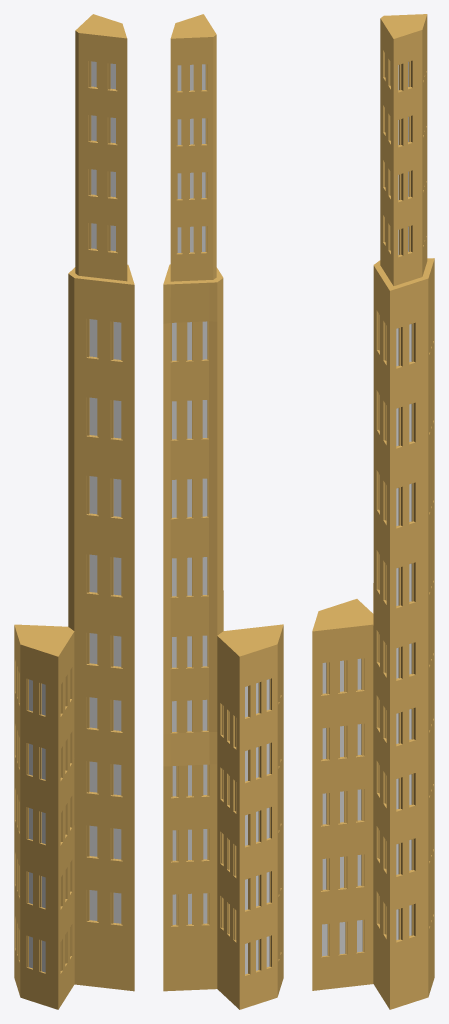
Rendered from the_bowtie.fbx.
3 renders of one model, left to right at view 1: azimuth 30°, elevation 25°; view 2: azimuth 150°, elevation 25°; view 3: azimuth 330°, elevation 25°, orthographic.
Visible parts, largest first — view 1: Circle; view 2: Circle; view 3: Circle.
Boxes of the visible parts, x1,y1,x2,y2 form: Circle: (14,14,134,1009); Circle: (163,14,283,1009); Circle: (312,14,434,1009).
Size of the model in its own units: 160 by 1344 by 113.
